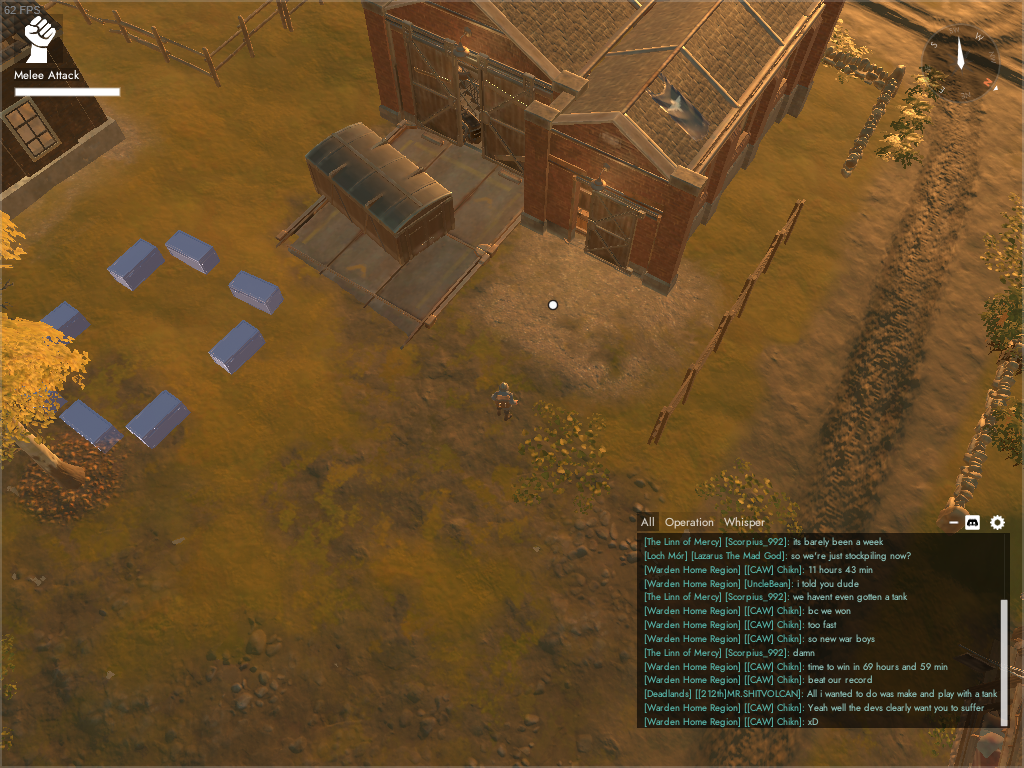container: (303, 118, 460, 270)
player: (490, 380, 520, 426)
storage_box: (54, 398, 126, 458), (124, 389, 192, 451), (203, 318, 266, 378), (105, 239, 165, 293), (227, 270, 286, 318), (164, 228, 221, 276), (33, 299, 91, 342)
